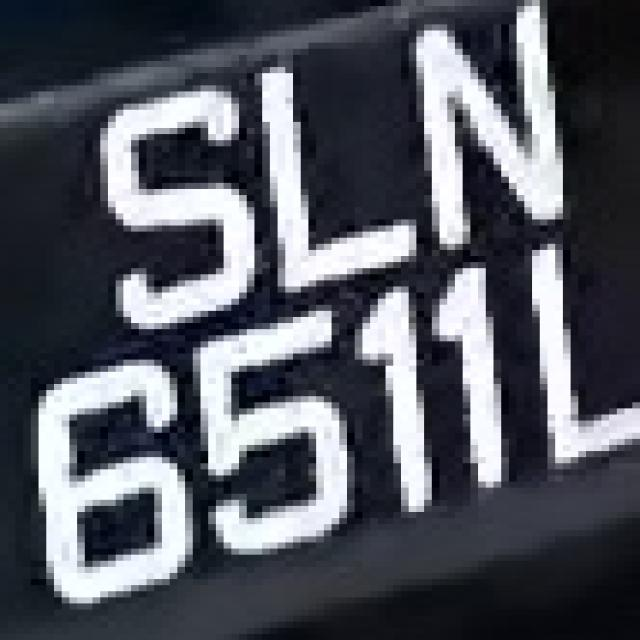1: (316, 299, 440, 530), (424, 256, 524, 506)
5: (170, 311, 354, 573)
6: (23, 342, 185, 604)
L: (231, 42, 432, 292), (493, 232, 640, 457)
N: (378, 12, 586, 238)
S: (62, 67, 255, 329)
